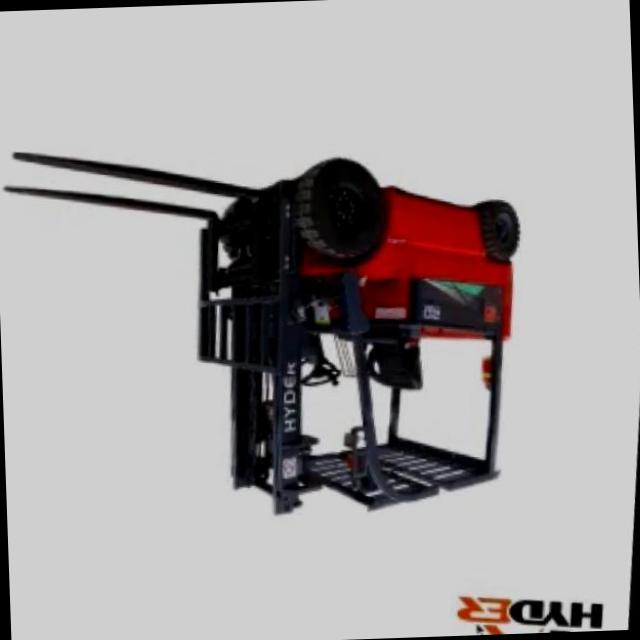forklift: (180, 114, 558, 553)
